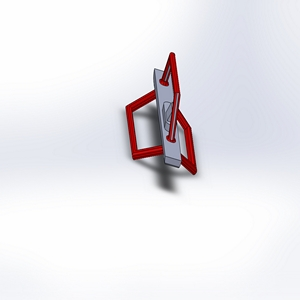submarine: (104, 51, 228, 184)
